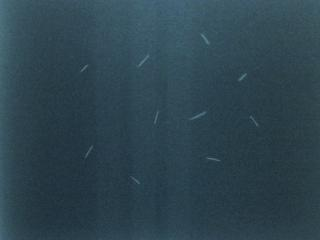scratch: (182, 109, 209, 123), (196, 30, 212, 49), (76, 62, 91, 78), (82, 142, 95, 160), (246, 114, 259, 129), (153, 109, 164, 126), (127, 174, 140, 186), (204, 155, 222, 163), (137, 55, 149, 67), (237, 71, 247, 81)
